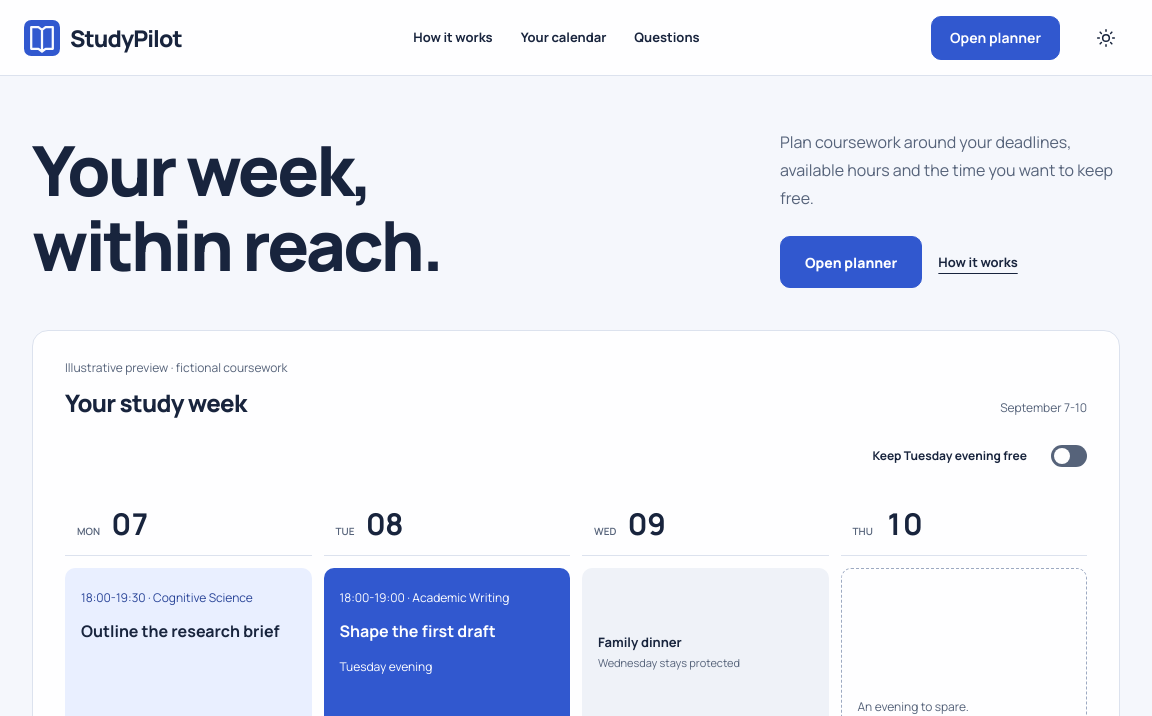
Test case: StudyPilot landing › moves between the landing page and the demo without losing either surface
The width and height of the screenshot is (1152, 716).
Click the button "Open planner" in the row of "Questions" at (996, 38), box x1=931 y1=16 x2=1060 y2=60
(page scrolled)
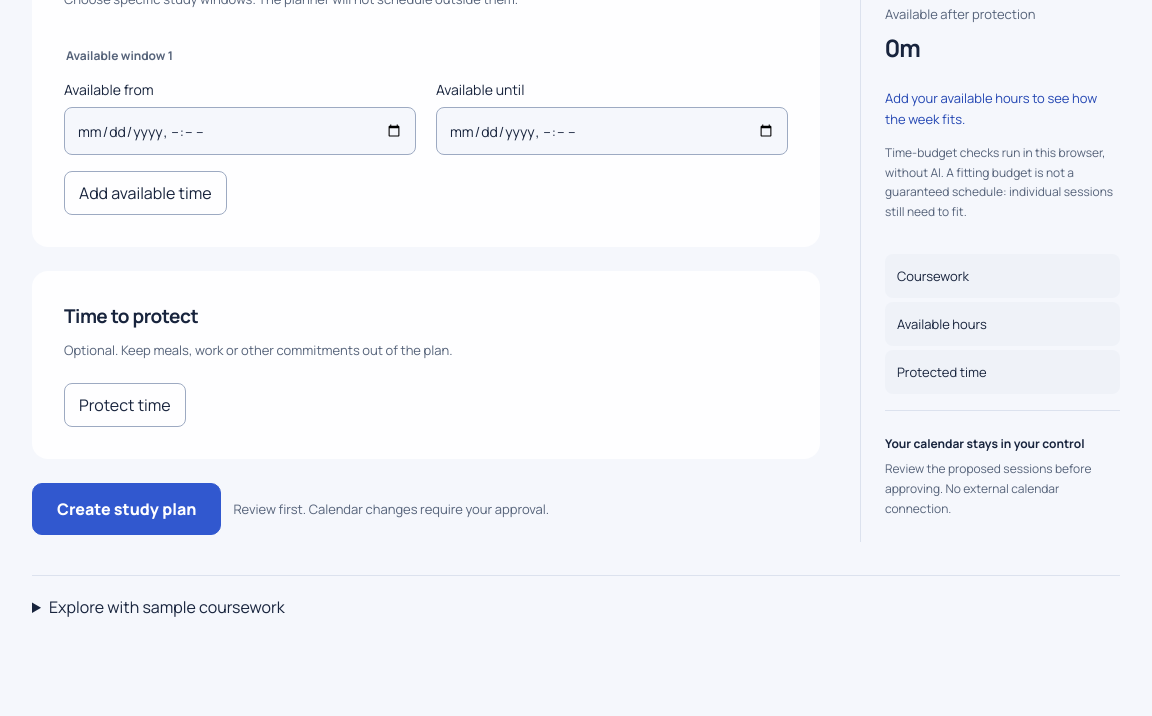
Click the heading "Explore with sample coursework" at (167, 607), box x1=49 y1=596 x2=285 y2=618
(page scrolled)
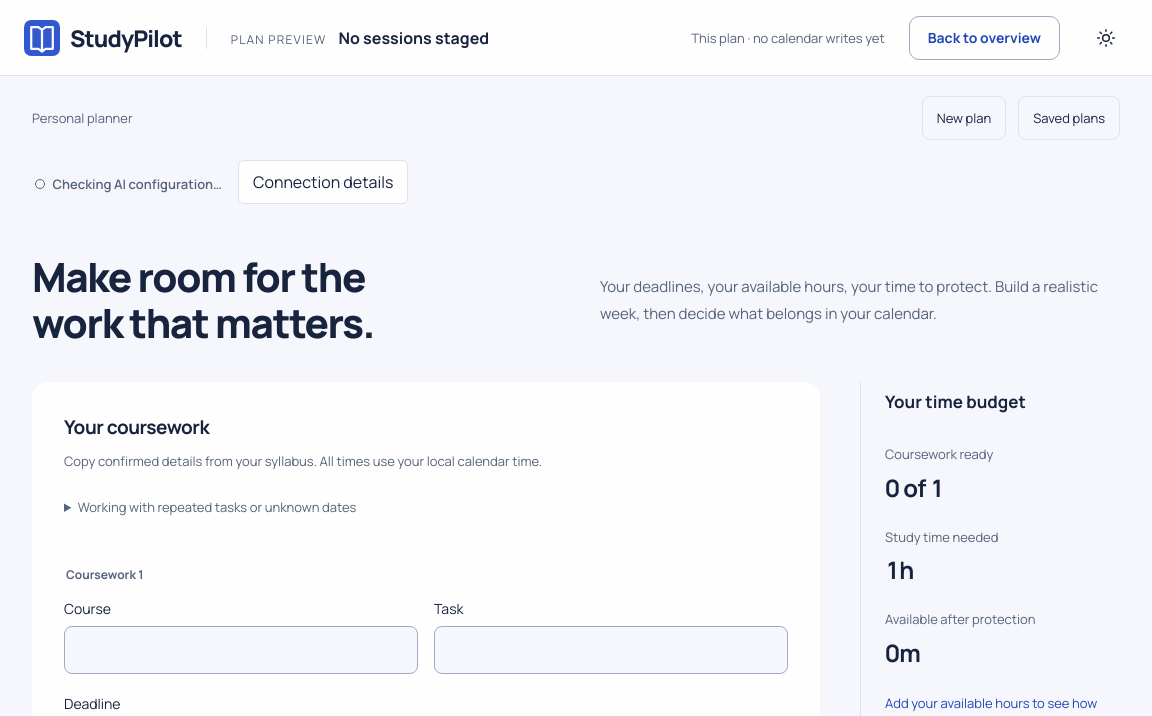
Expected: the heading "Your coursework" is shown, x1=64 y1=414 x2=209 y2=440
Click the button "Back to overview" at (984, 38), box x1=909 y1=16 x2=1060 y2=60
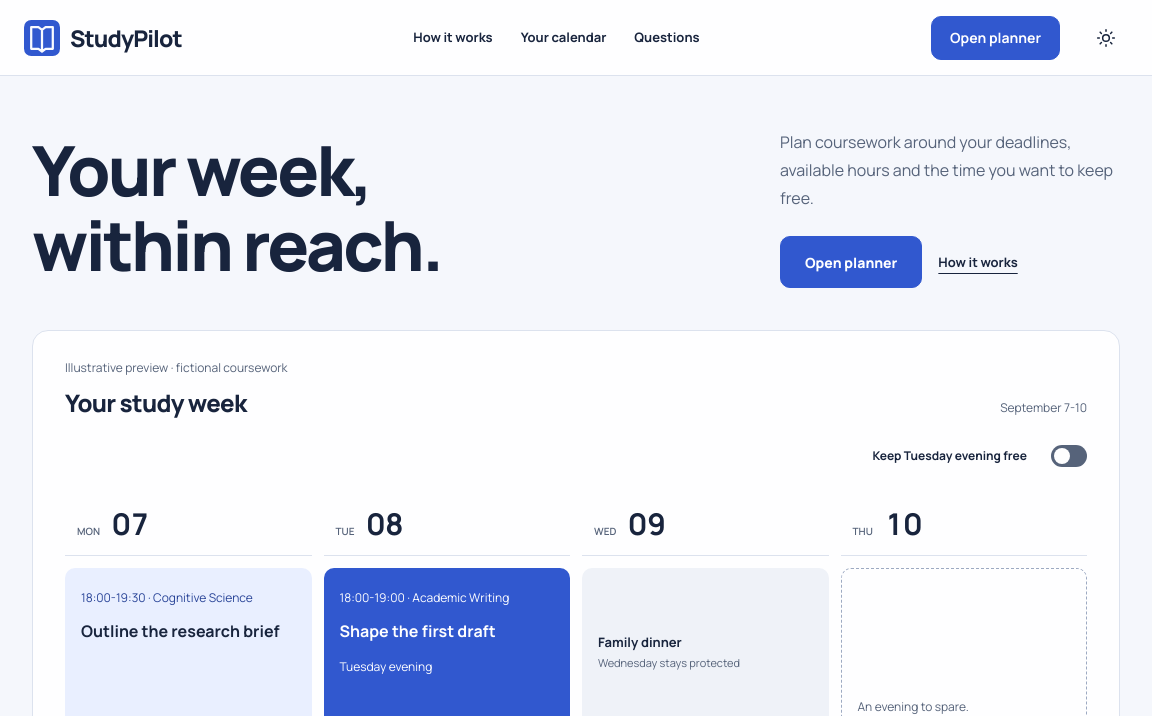
Expected: the heading "Your week, within reach." is shown, x1=32 y1=122 x2=441 y2=292
